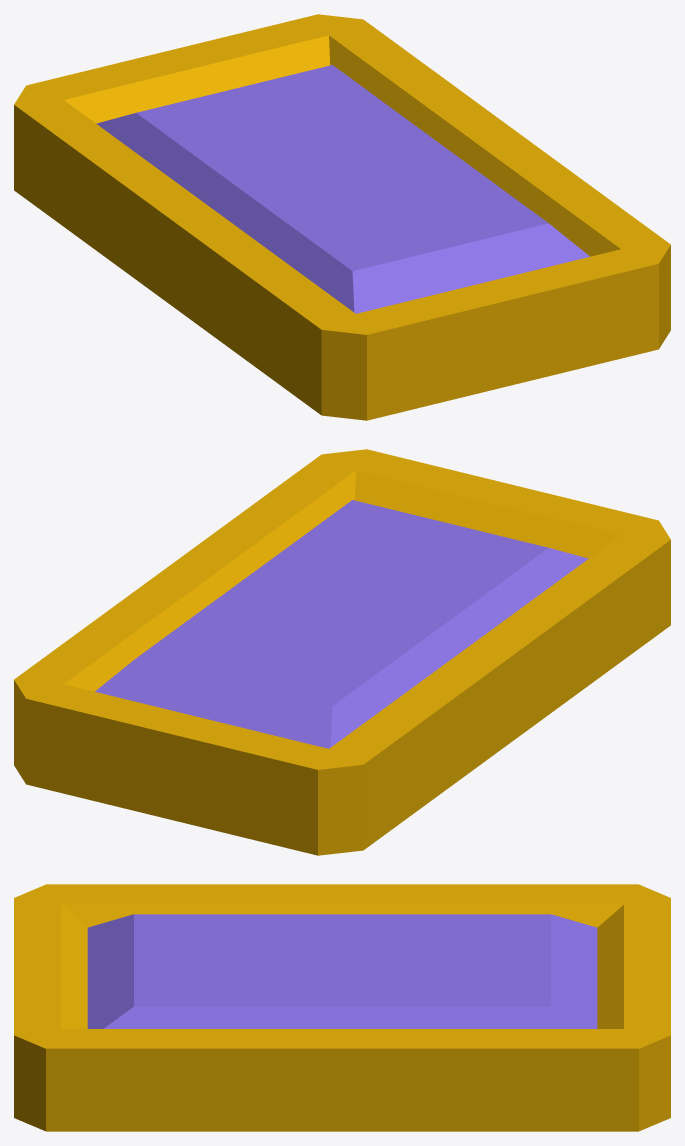
3 renders of one model, top to bottom at view 1: azimuth 30°, elevation 25°; view 2: azimuth 150°, elevation 25°; view 3: azimuth 270°, elevation 25°, orthographic. The views are drawn at different scales.
Visible parts, largest first — view 1: Cube; view 2: Cube; view 3: Cube.
Part boxes in pixels (x1,y1,x2,y2): Cube: [14, 14, 670, 420]; Cube: [14, 449, 670, 855]; Cube: [14, 884, 670, 1131].
Size of the model in its own units: 200 by 50.49 by 338.
